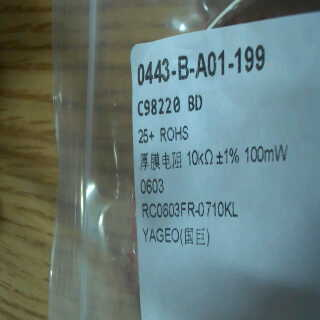10kR: (179, 147, 222, 167)
